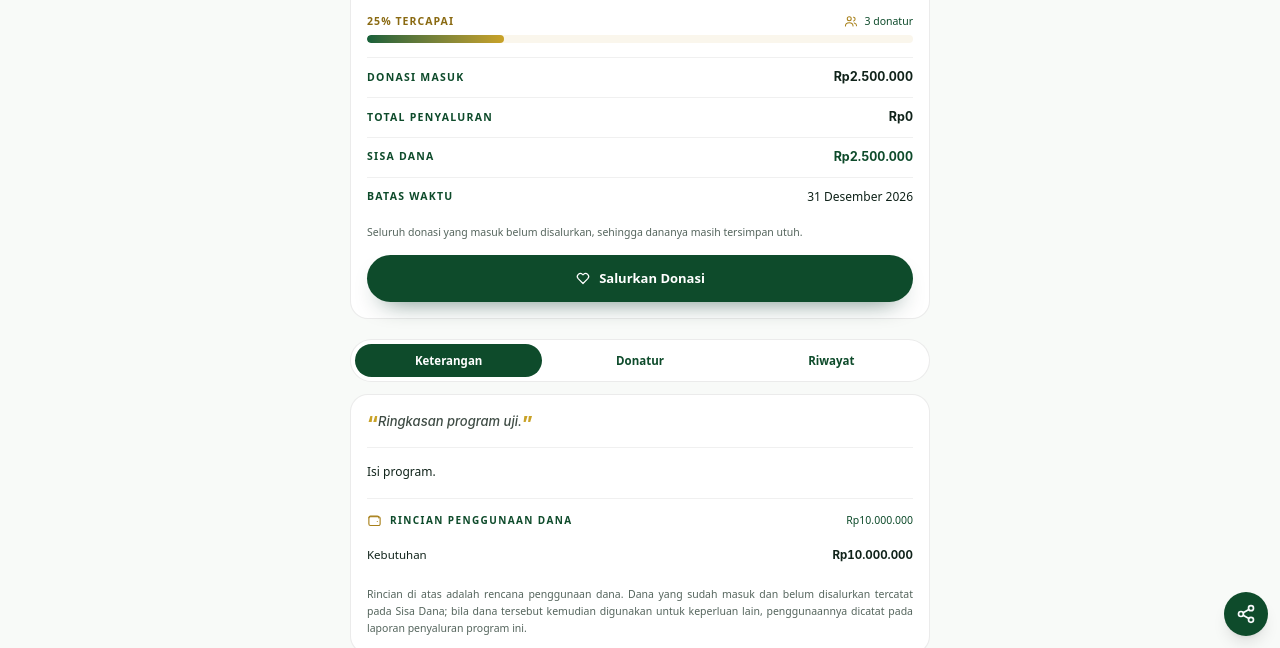
Tab riwayat halaman donasi › menyatakan belum ada catatan bila database kosong, bukan riwayat contoh
(page scrolled)
Click the tab "Riwayat" at coordinates (831, 361), box [738,344,925,377]
(page scrolled)
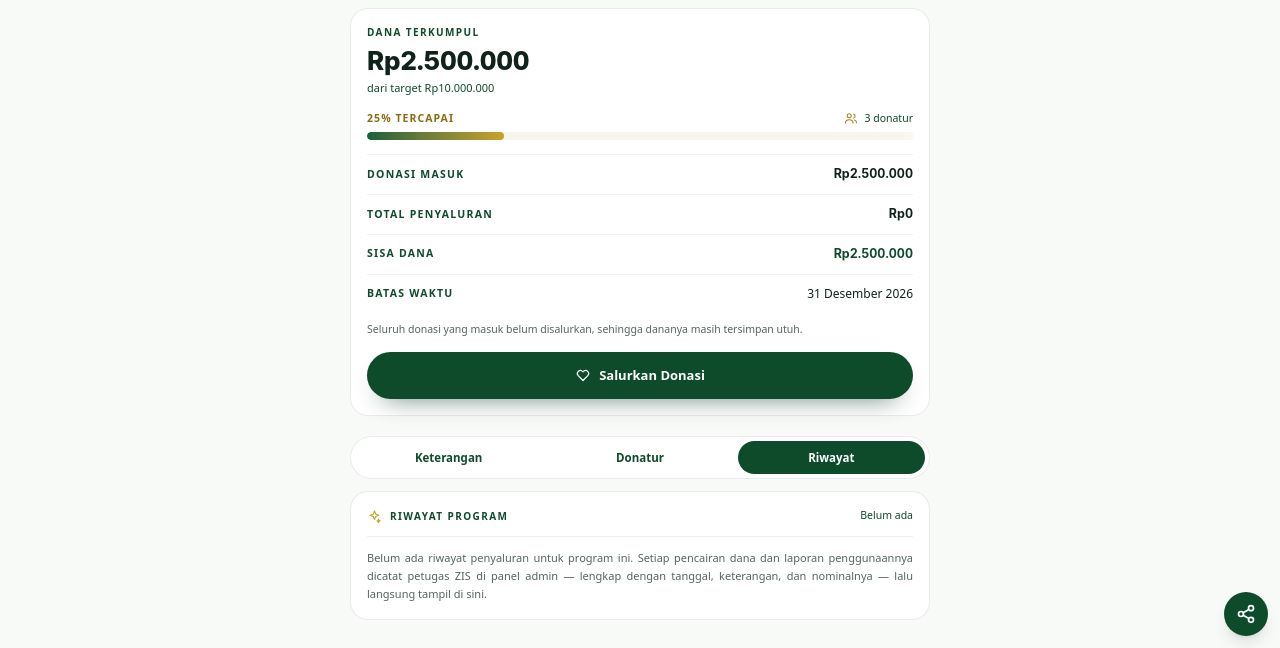
Expected: the text with test id "donasi-riwayat-kosong" is shown, [367,536,913,603]
